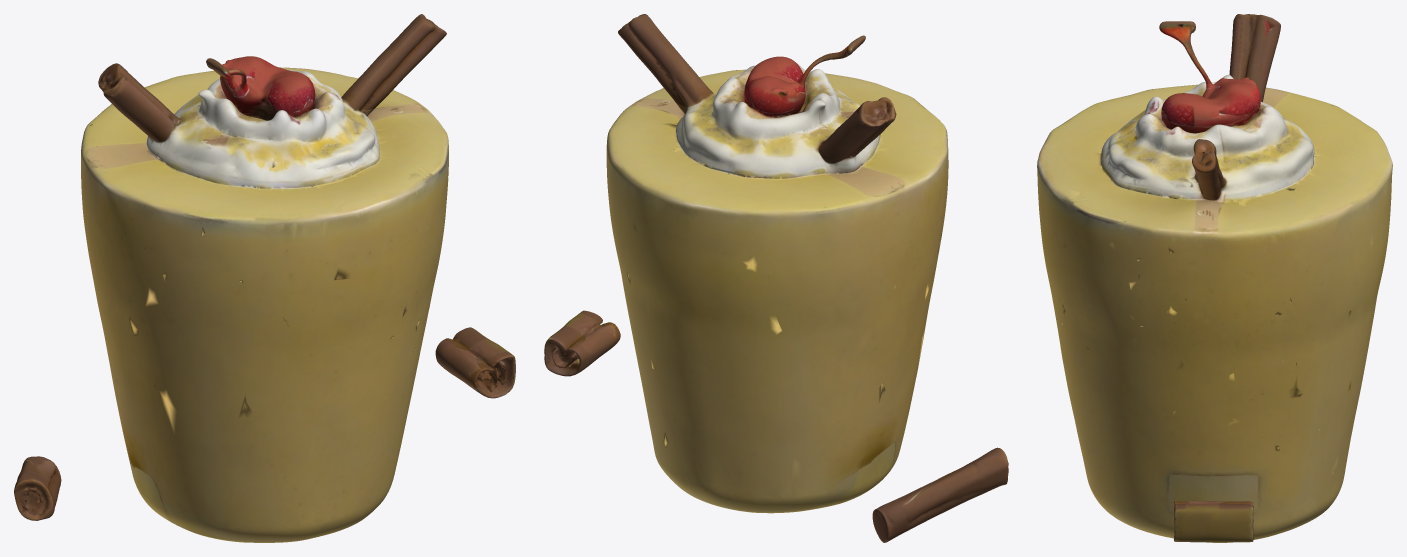
The model's file is Butter_Bash_Smoothie.glb.
3 views of the same model, side by side, from view 1: azimuth 30°, elevation 25°; view 2: azimuth 150°, elevation 25°; view 3: azimuth 270°, elevation 25° (orthographic). The views are drawn at different scales.
Bounding box in the file's own units: 2 × 1.86 × 1.33.
Materials: 1 (1 with a texture image).
